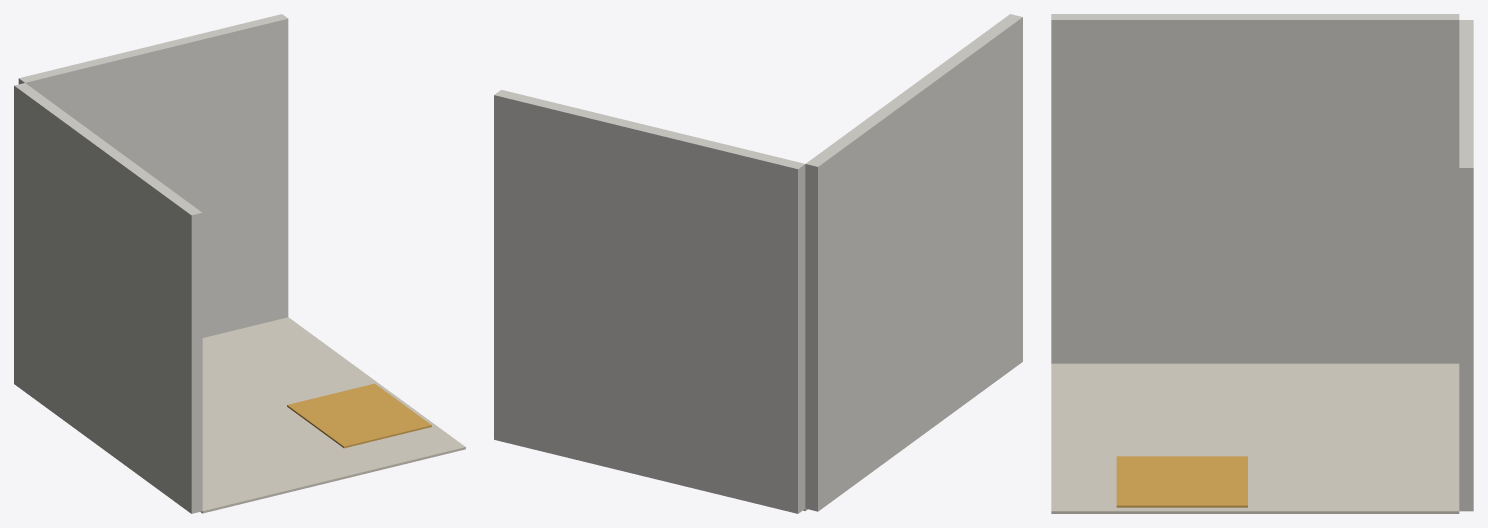
Rendered from room.glb.
The picture shows the model from 3 angles, left to right: view 1: azimuth 30°, elevation 25°; view 2: azimuth 150°, elevation 25°; view 3: azimuth 270°, elevation 25°; orthographic projection. The views are drawn at different scales.
Parts seen in each view (by area): view 1: wall_b, wall_a, floor, obstacle_0; view 2: wall_a, wall_b; view 3: wall_b, floor, wall_a, obstacle_0.
Boxes of the visible parts, x1,y1,x2,y2 form: wall_b: [14, 83, 202, 513]; wall_a: [18, 14, 288, 337]; floor: [200, 317, 465, 513]; obstacle_0: [287, 383, 431, 448]; wall_a: [494, 90, 805, 513]; wall_b: [805, 14, 1022, 511]; wall_b: [1051, 14, 1459, 363]; floor: [1051, 363, 1459, 513]; wall_a: [1459, 20, 1473, 511]; obstacle_0: [1116, 456, 1247, 507].
Bounding box in the file's own units: 2.5 × 2.62 × 2.9.
